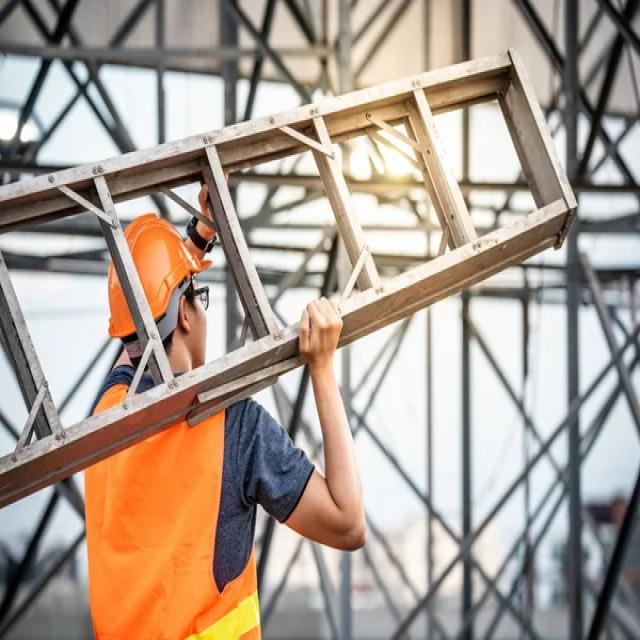goggles: (182, 286, 217, 319)
helmet: (102, 213, 194, 332)
vest: (84, 378, 270, 640)
